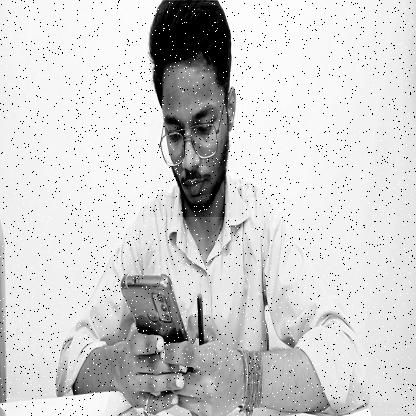Distracted: (150, 1, 236, 217)
